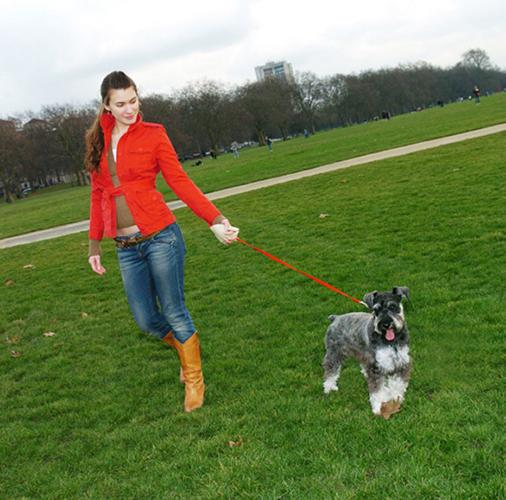person: (87, 70, 235, 412)
